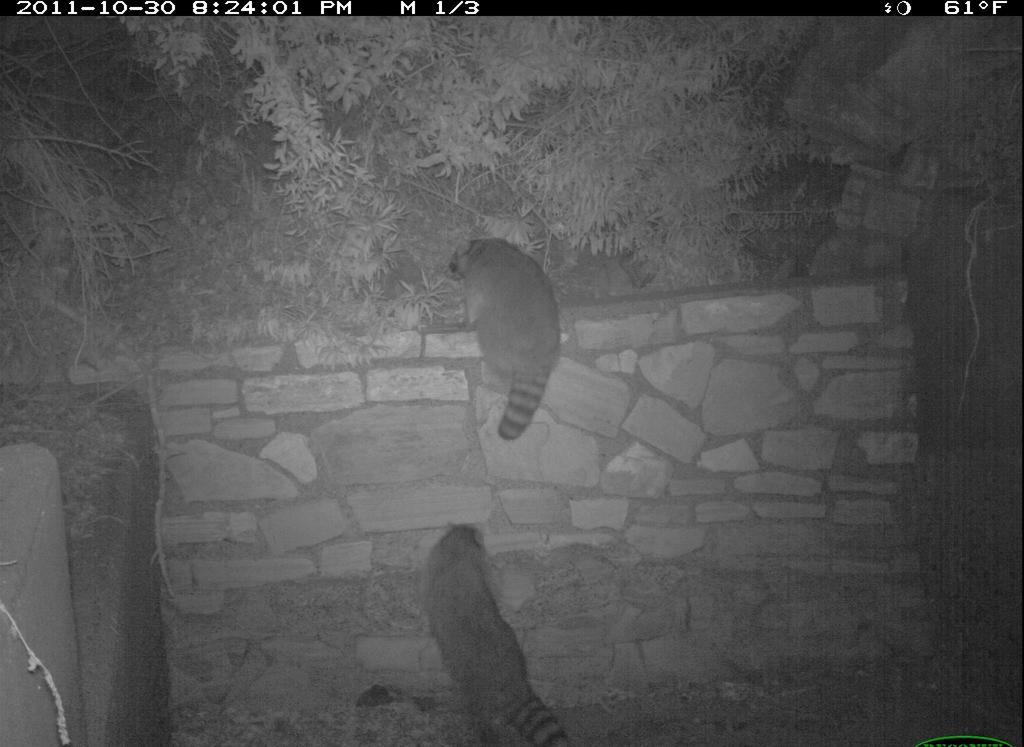raccoon: (423, 511, 580, 744), (440, 224, 570, 451)
